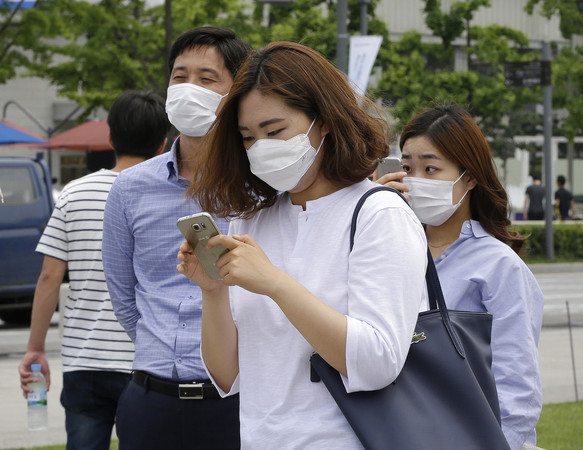mask: (246, 133, 319, 191), (165, 81, 220, 138), (404, 178, 462, 228)
